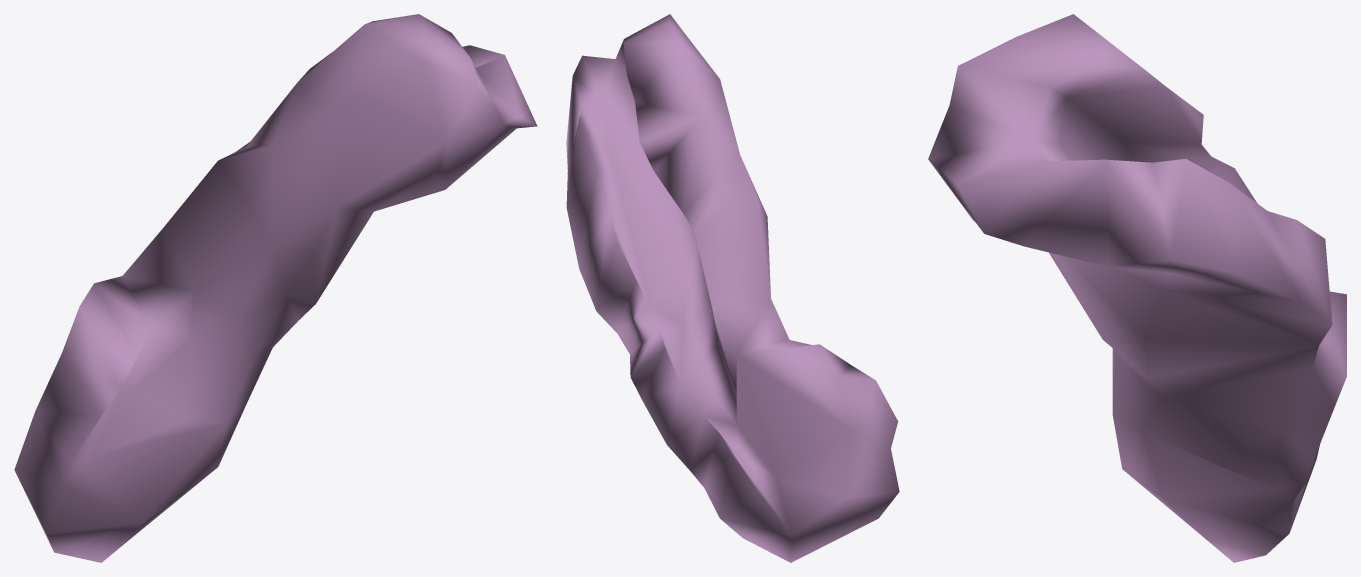
The picture shows the model from 3 angles, left to right: view 1: azimuth 30°, elevation 25°; view 2: azimuth 150°, elevation 25°; view 3: azimuth 270°, elevation 25°; orthographic projection. The views are drawn at different scales.
Parts seen in each view (by area): view 1: 右侧颞横回; view 2: 右侧颞横回; view 3: 右侧颞横回.
Boxes of the visible parts, x1,y1,x2,y2 form: 右侧颞横回: (14,14,537,562); 右侧颞横回: (566,14,899,562); 右侧颞横回: (928,14,1346,562).
Bounding box in the file's own units: 0.0314 × 0.0375 × 0.0212.
